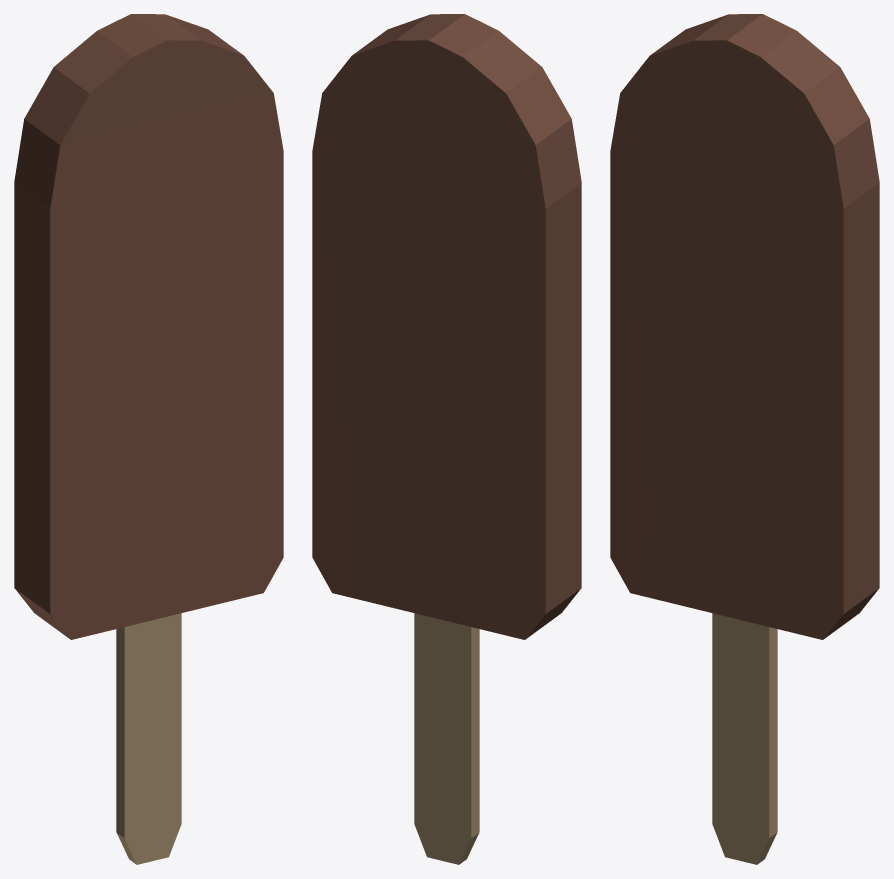
File: popsicle-chocolate.glb
3 renders of one model, left to right at view 1: azimuth 30°, elevation 25°; view 2: azimuth 150°, elevation 25°; view 3: azimuth 330°, elevation 25°, orthographic.
Visible parts, largest first — view 1: Popsicle_Chocolate; view 2: Popsicle_Chocolate; view 3: Popsicle_Chocolate.
Part boxes in pixels (left/top/right/bottom): Popsicle_Chocolate: left=14, top=14, right=283, bottom=864; Popsicle_Chocolate: left=312, top=14, right=581, bottom=864; Popsicle_Chocolate: left=610, top=14, right=879, bottom=864.
Bounding box in the file's own units: 0.2911 × 0.99 × 0.0798.
